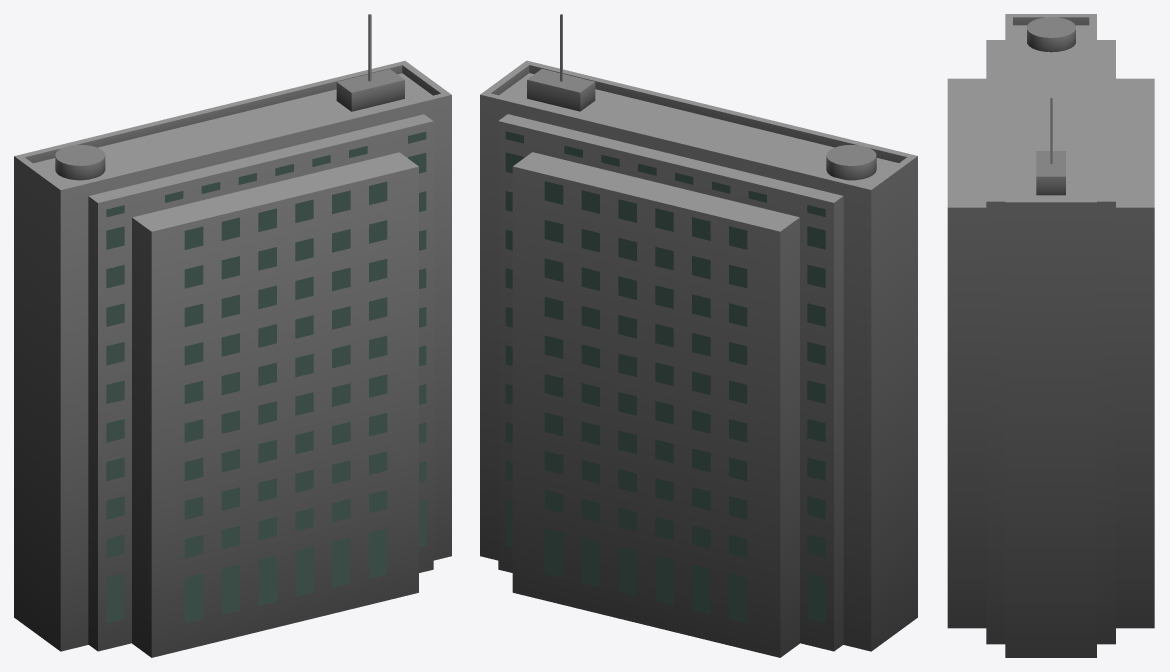
File: buildings-industrial-officebuilding_v3.glb
3 views of the same model, side by side, from view 1: azimuth 30°, elevation 25°; view 2: azimuth 150°, elevation 25°; view 3: azimuth 270°, elevation 25° (orthographic).
Parts seen in each view (by area): view 1: OfficeBuilding_v3_base, OfficeBuilding_v3_windowRefl; view 2: OfficeBuilding_v3_base, OfficeBuilding_v3_windowRefl; view 3: OfficeBuilding_v3_base.
Boxes of the visible parts, x1,y1,x2,y2 form: OfficeBuilding_v3_base: [14, 14, 451, 657]; OfficeBuilding_v3_windowRefl: [106, 131, 426, 623]; OfficeBuilding_v3_base: [480, 14, 917, 657]; OfficeBuilding_v3_windowRefl: [505, 131, 825, 623]; OfficeBuilding_v3_base: [947, 14, 1154, 657].
Bounding box in the file's own units: 23.36 × 30.74 × 10.98.
